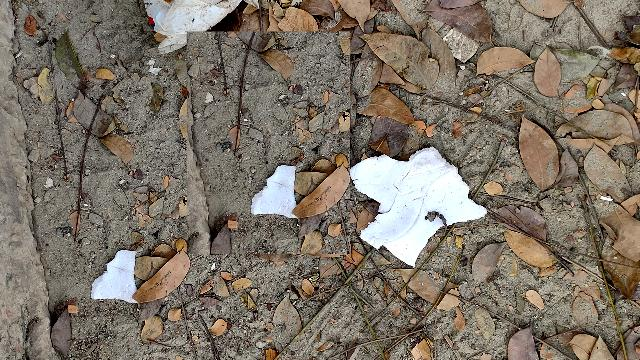cocksheet: (335, 122, 495, 259), (247, 165, 300, 220), (92, 246, 143, 302)
